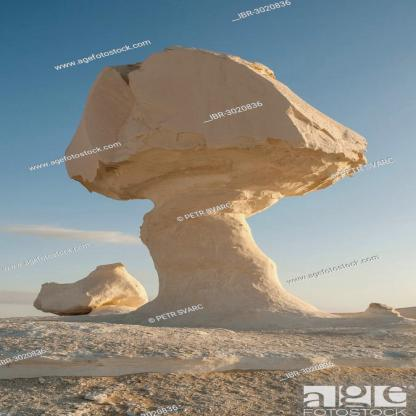Sedimentary_Chalk: (109, 69, 353, 216)
